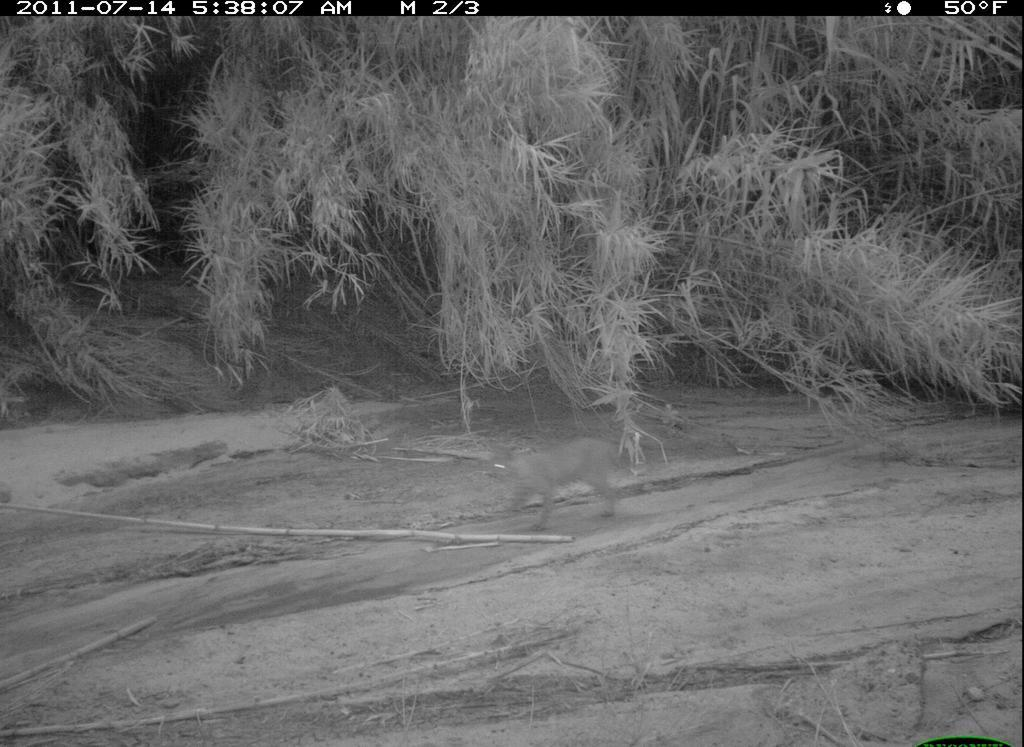bobcat: (483, 431, 638, 541)
